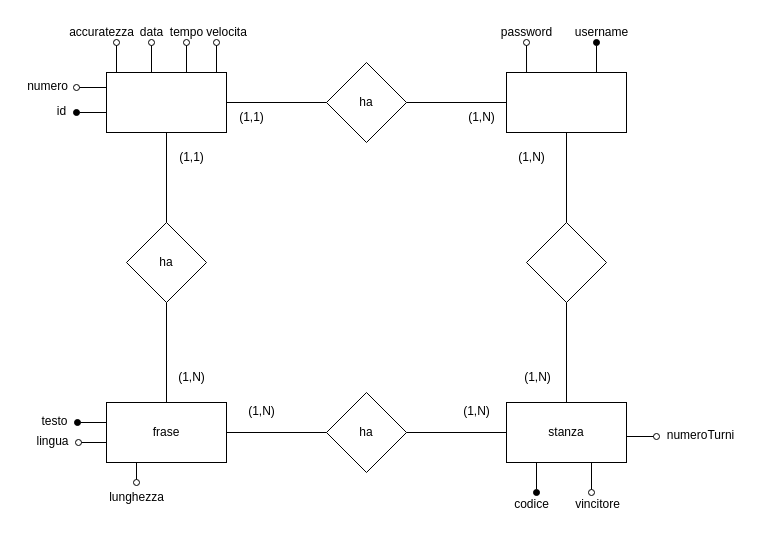
The diagram is 762 pixels wide and 536 high, and some of its shapes have lost their labels. The centre of each missing label's shape, as x and y in pixels:
"accede" belongs at pixel 566 262.
"turno_storico" belongs at pixel 166 102.
"utente" belongs at pixel 566 102.
